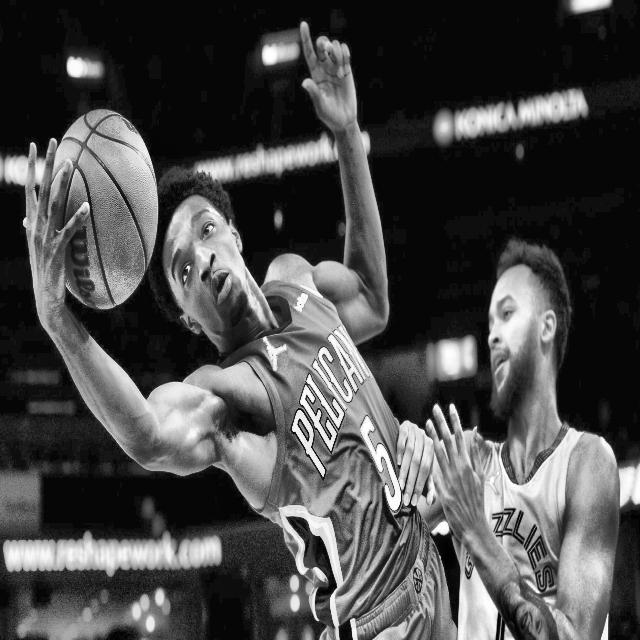Basketball: (53, 108, 157, 308)
